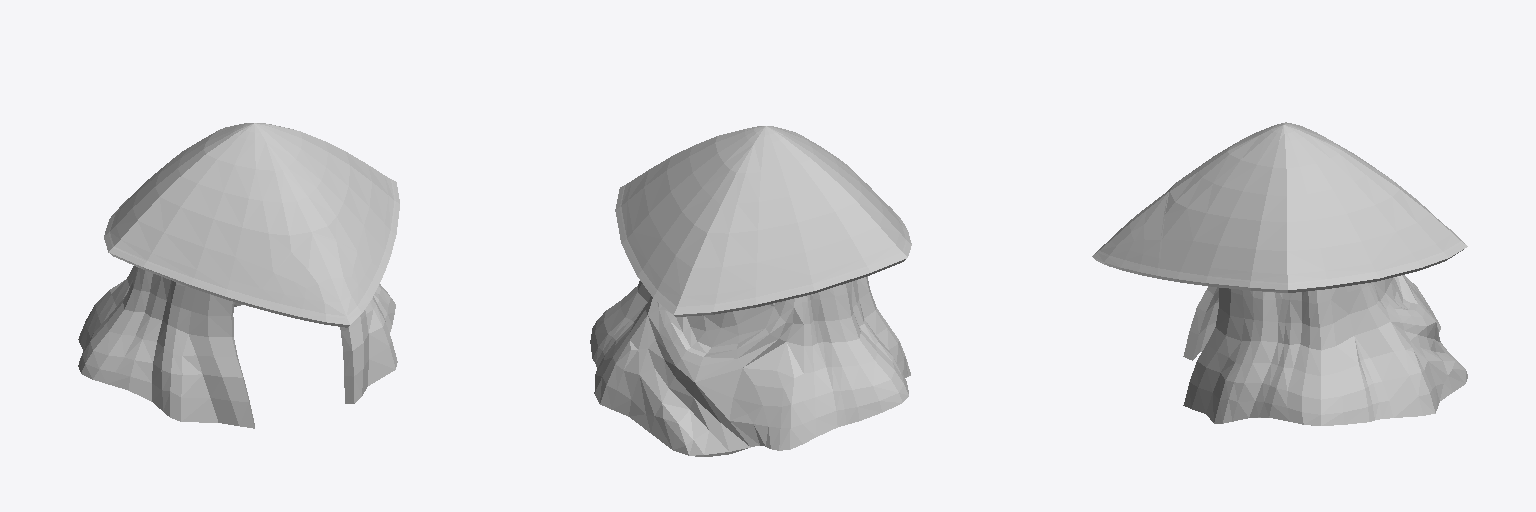
The model's file is Hokage Hat.obj.
3 renders of one model, left to right at view 1: azimuth 30°, elevation 25°; view 2: azimuth 150°, elevation 25°; view 3: azimuth 270°, elevation 25°, orthographic.
Parts seen in each view (by area): view 1: SK_CHR_Man_Hat_01.mo; view 2: SK_CHR_Man_Hat_01.mo; view 3: SK_CHR_Man_Hat_01.mo.
Boxes of the visible parts, box(x1,y1,x2,y2) form: SK_CHR_Man_Hat_01.mo: box(78, 123, 399, 428); SK_CHR_Man_Hat_01.mo: box(590, 126, 911, 456); SK_CHR_Man_Hat_01.mo: box(1092, 122, 1467, 425).
Bounding box in the file's own units: 0.4534 × 0.3671 × 0.4773.